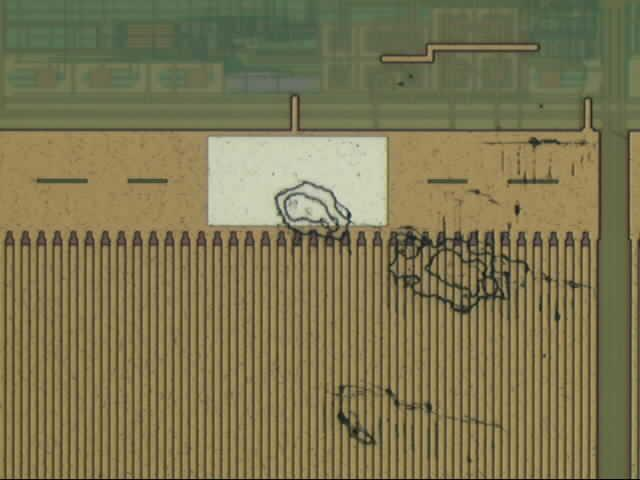SCRATCH: (270, 133, 611, 456)
